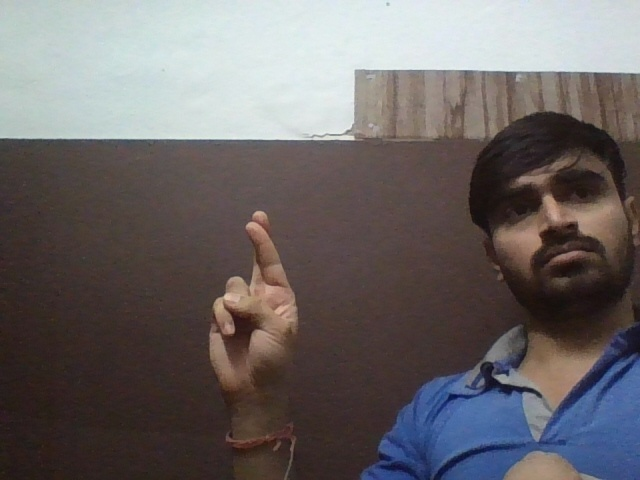R: (210, 205, 319, 399)
